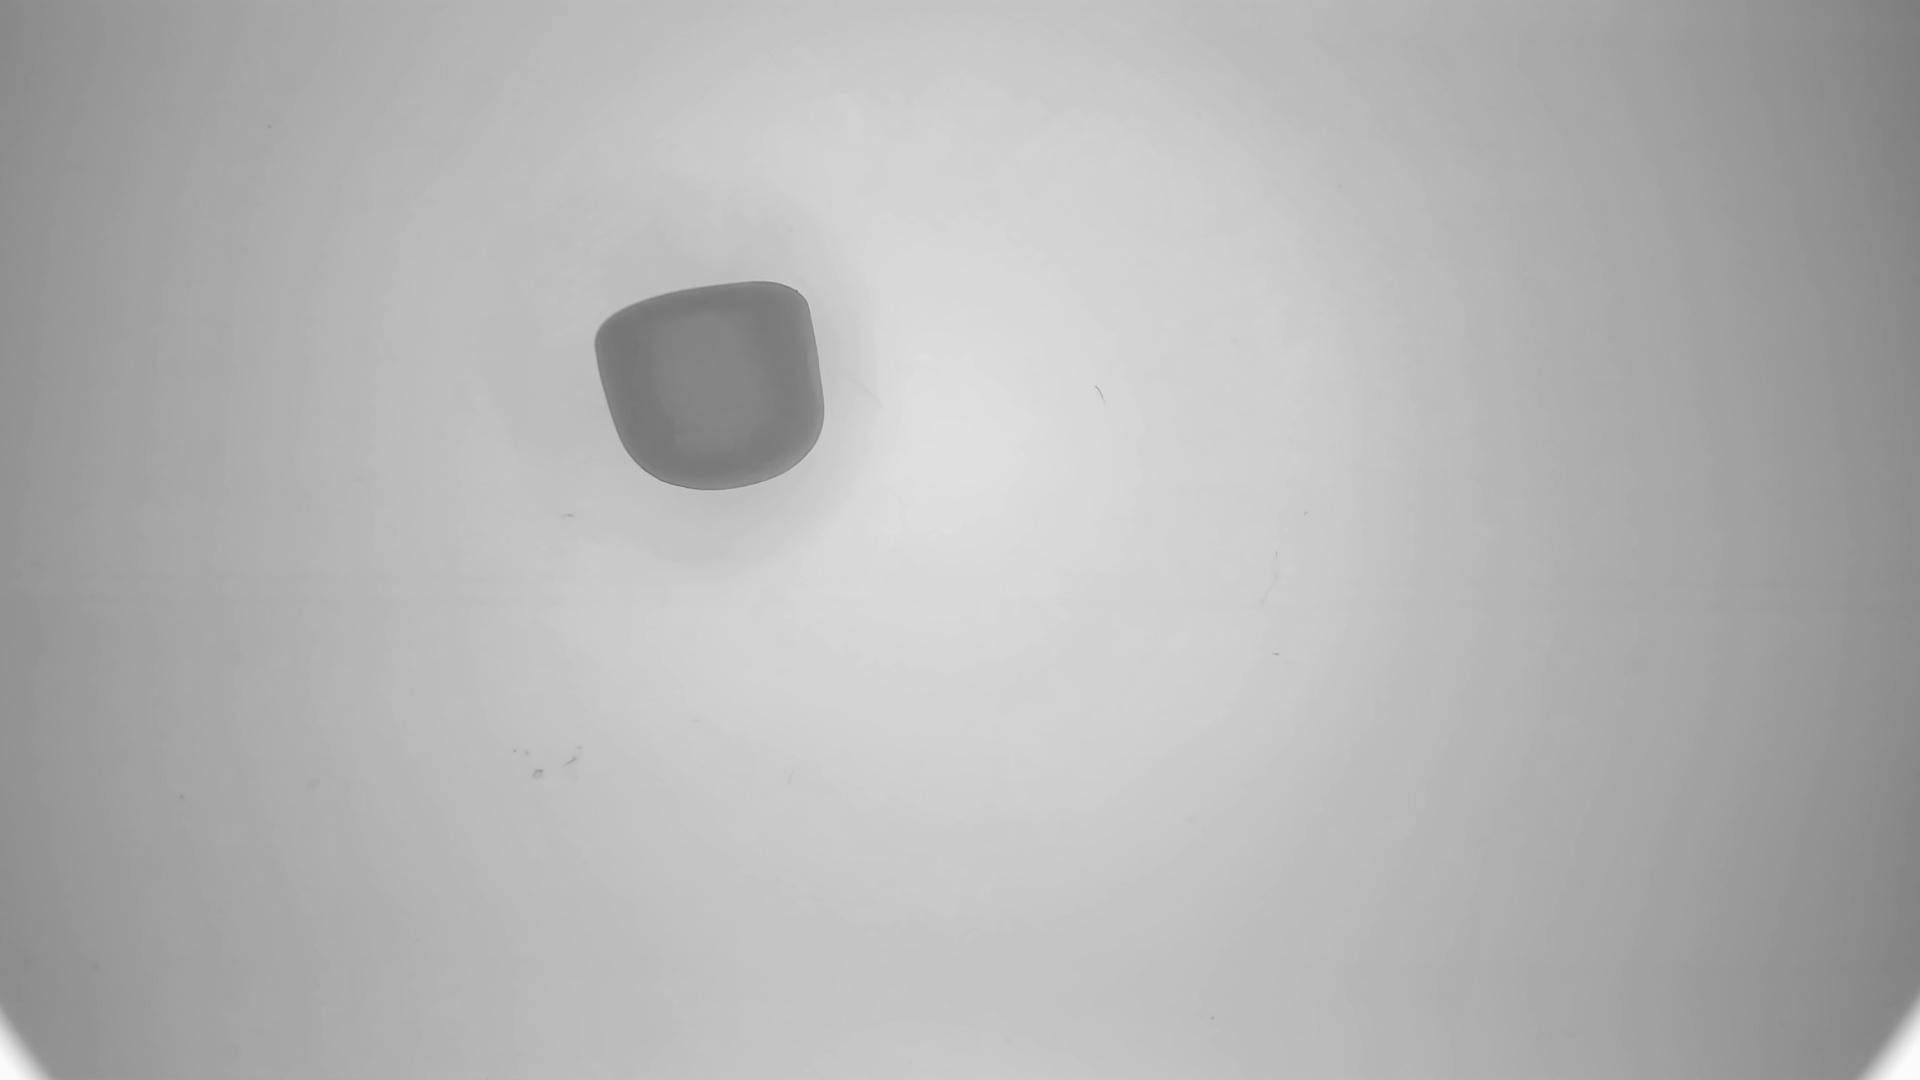normal: (593, 278, 828, 495)
